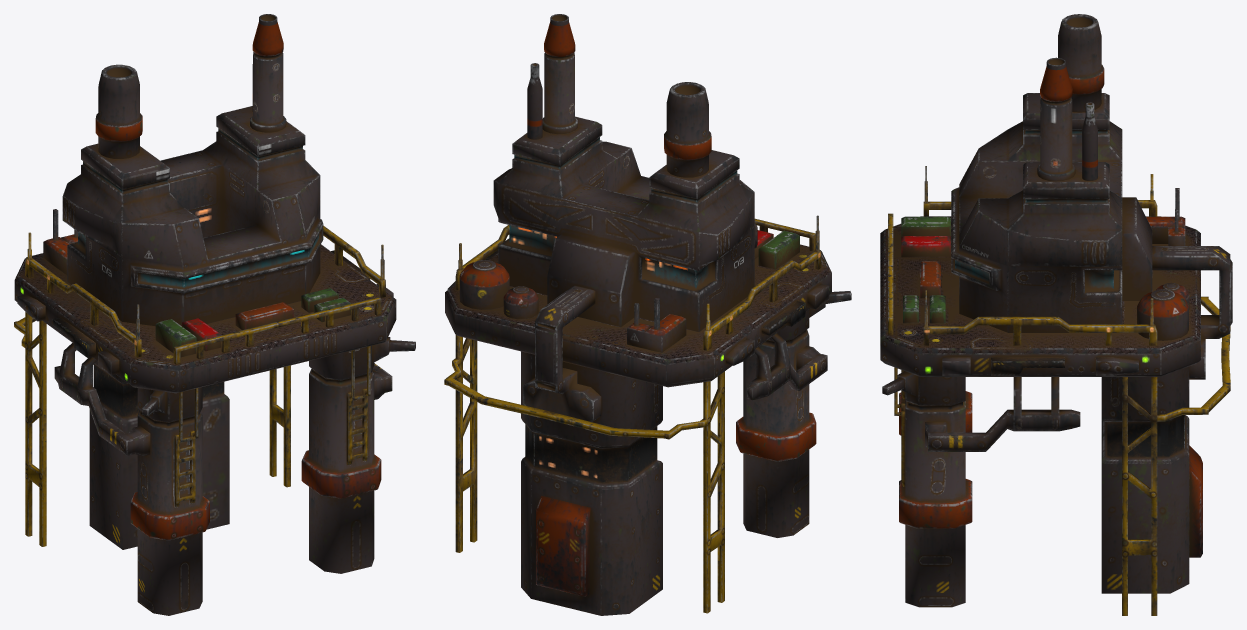
The picture shows the model from 3 angles, left to right: view 1: azimuth 30°, elevation 25°; view 2: azimuth 150°, elevation 25°; view 3: azimuth 270°, elevation 25°; orthographic projection. The views are drawn at different scales.
Parts seen in each view (by area): view 1: oilbuild; view 2: oilbuild; view 3: oilbuild.
Boxes of the visible parts, x1,y1,x2,y2 form: oilbuild: (14,14,415,615); oilbuild: (444,14,851,615); oilbuild: (880,14,1232,615).
Bounding box in the file's own units: 212 × 372 × 220.
Materials: 1 (1 with a texture image).
